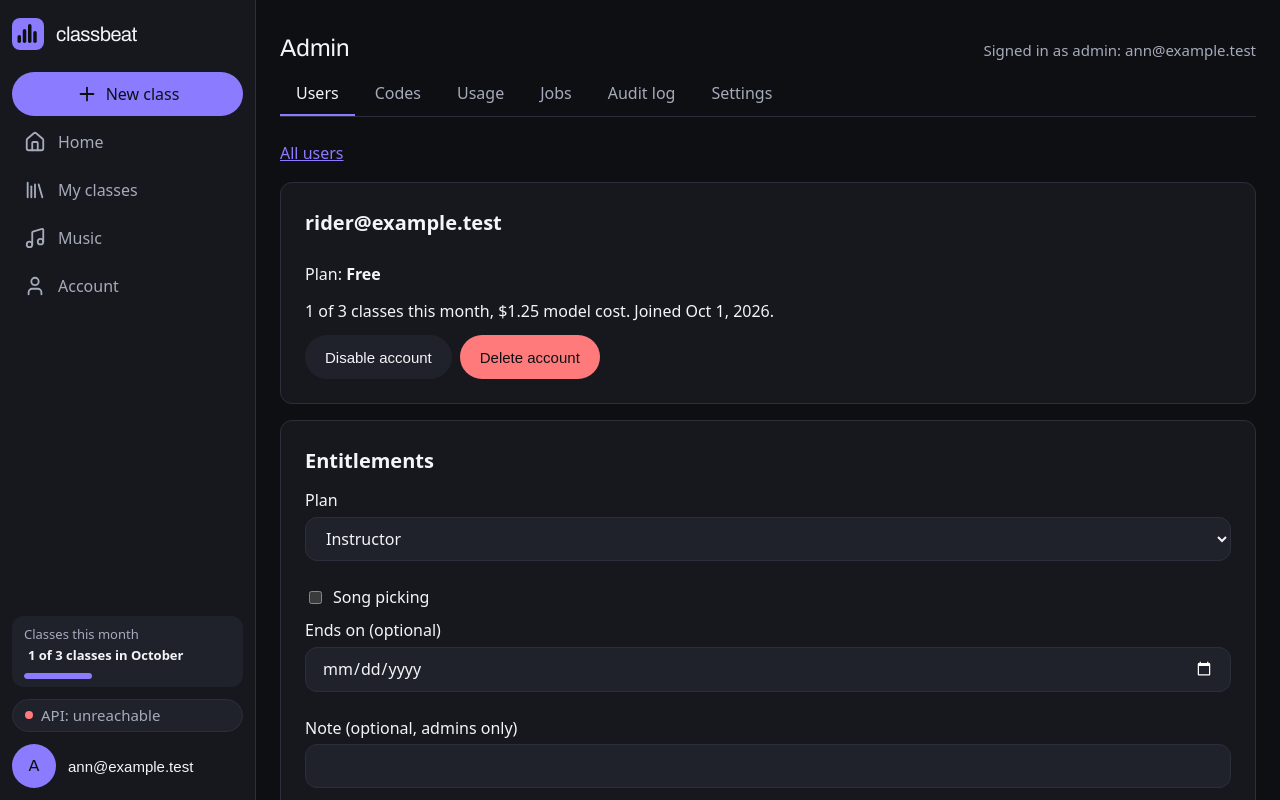
Test case: step-up › returns to the two-factor check on mfa_required
The image size is (1280, 800).
Click the button "Disable account": (378, 357) [305,335,452,379]
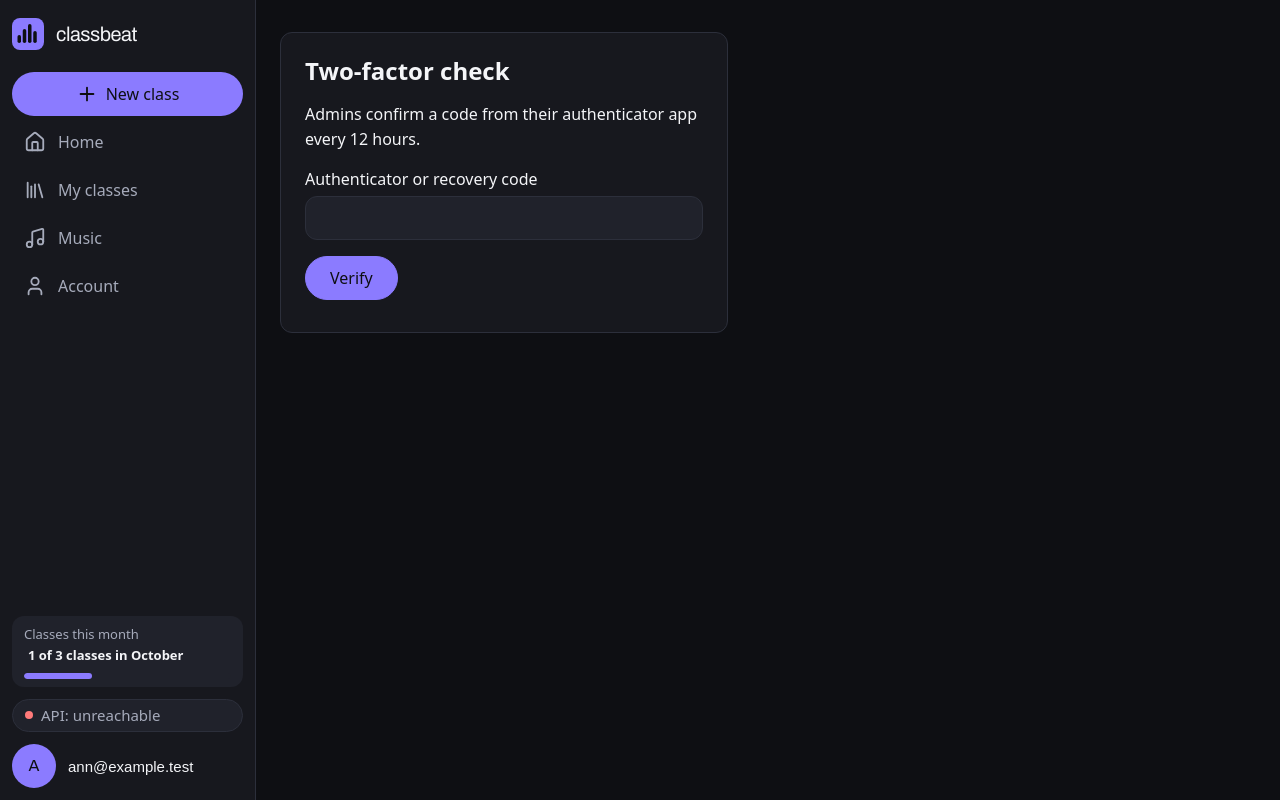
Expected: the heading "Two-factor check" is shown, [305,54,510,87]
